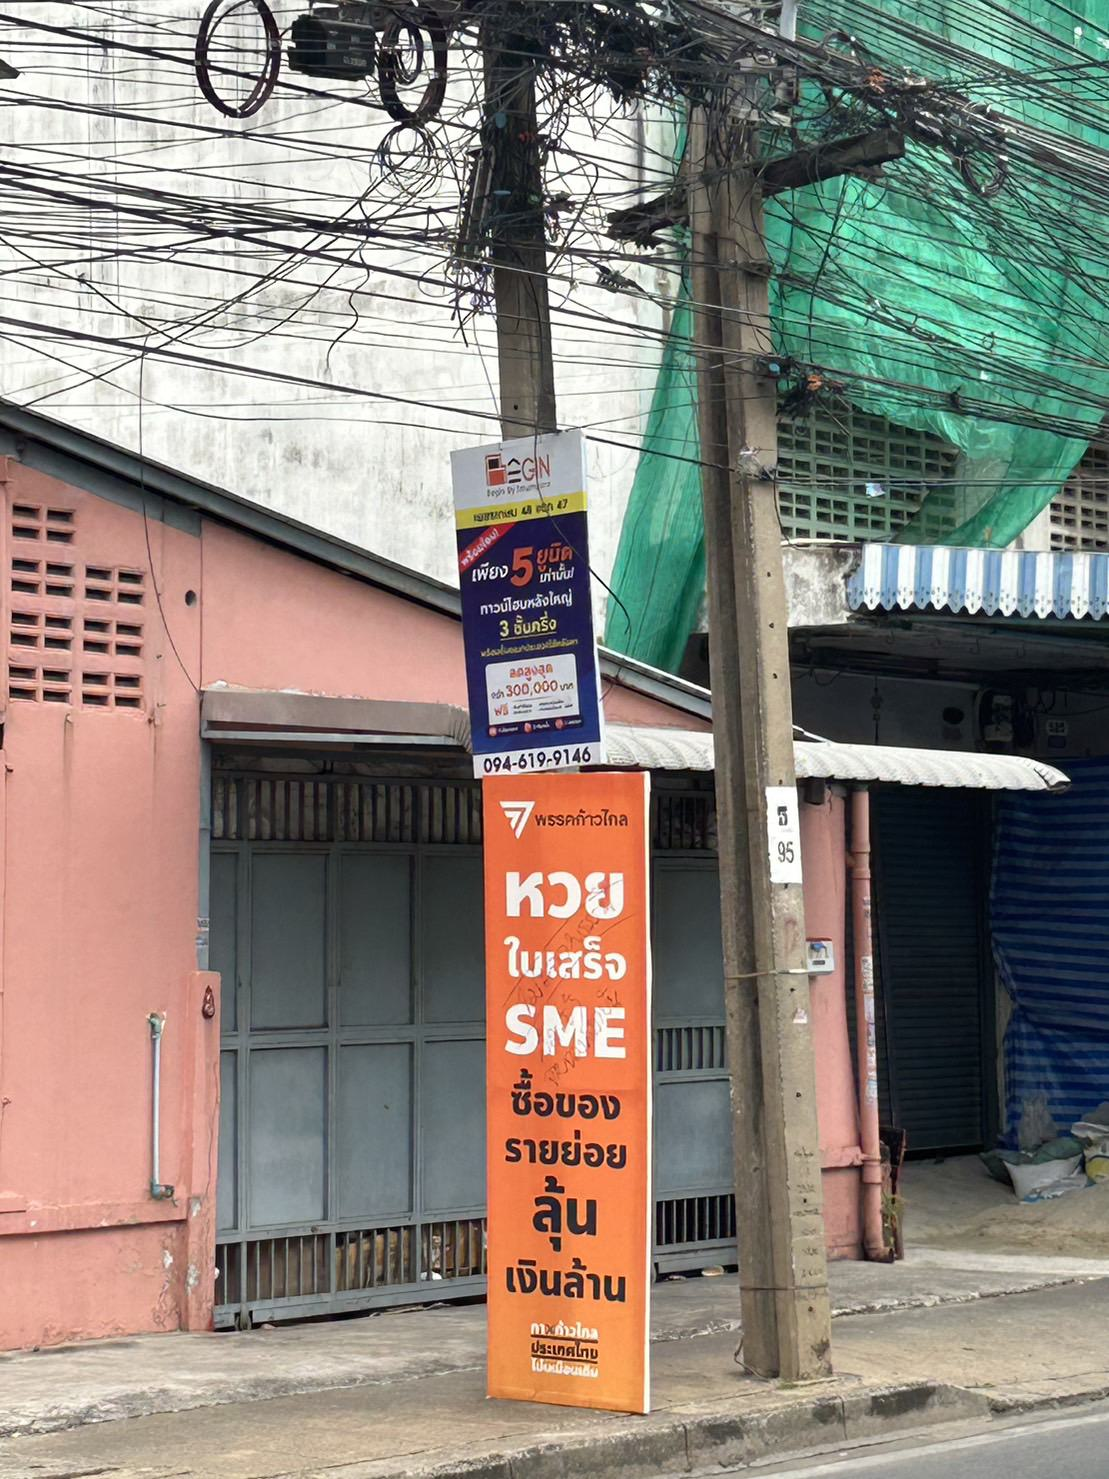Banner: (454, 753, 671, 1427)
